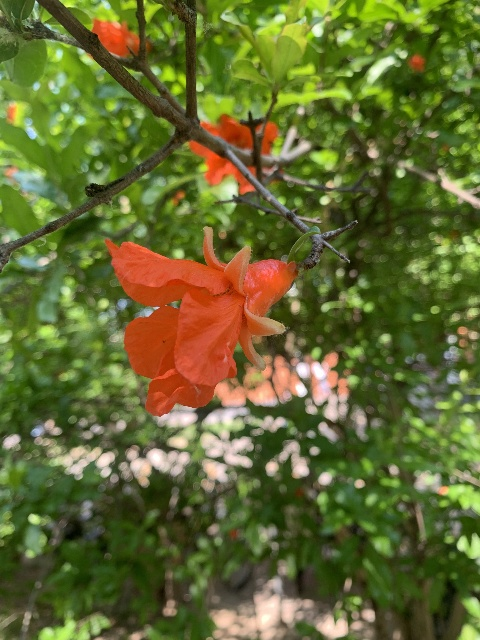flower: (104, 226, 298, 416), (188, 113, 278, 194), (90, 18, 148, 58)
